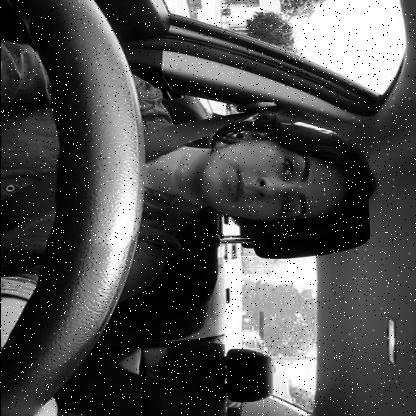seatbelt: (0, 100, 395, 275)
